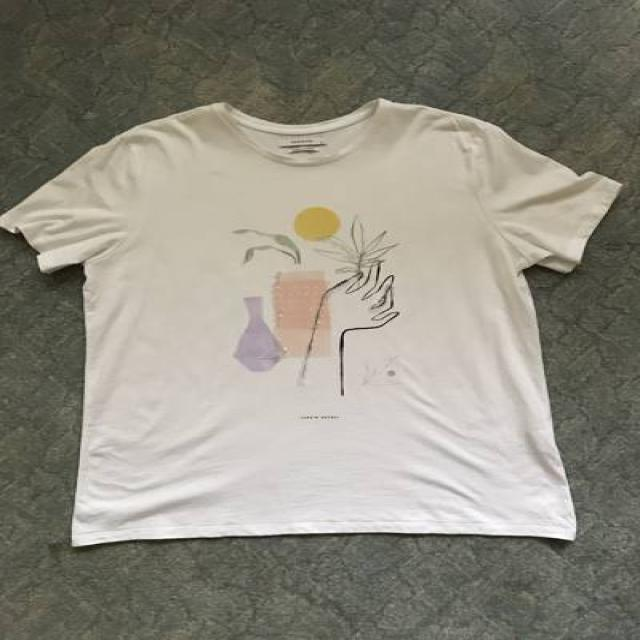shirt: (0, 96, 625, 548)
